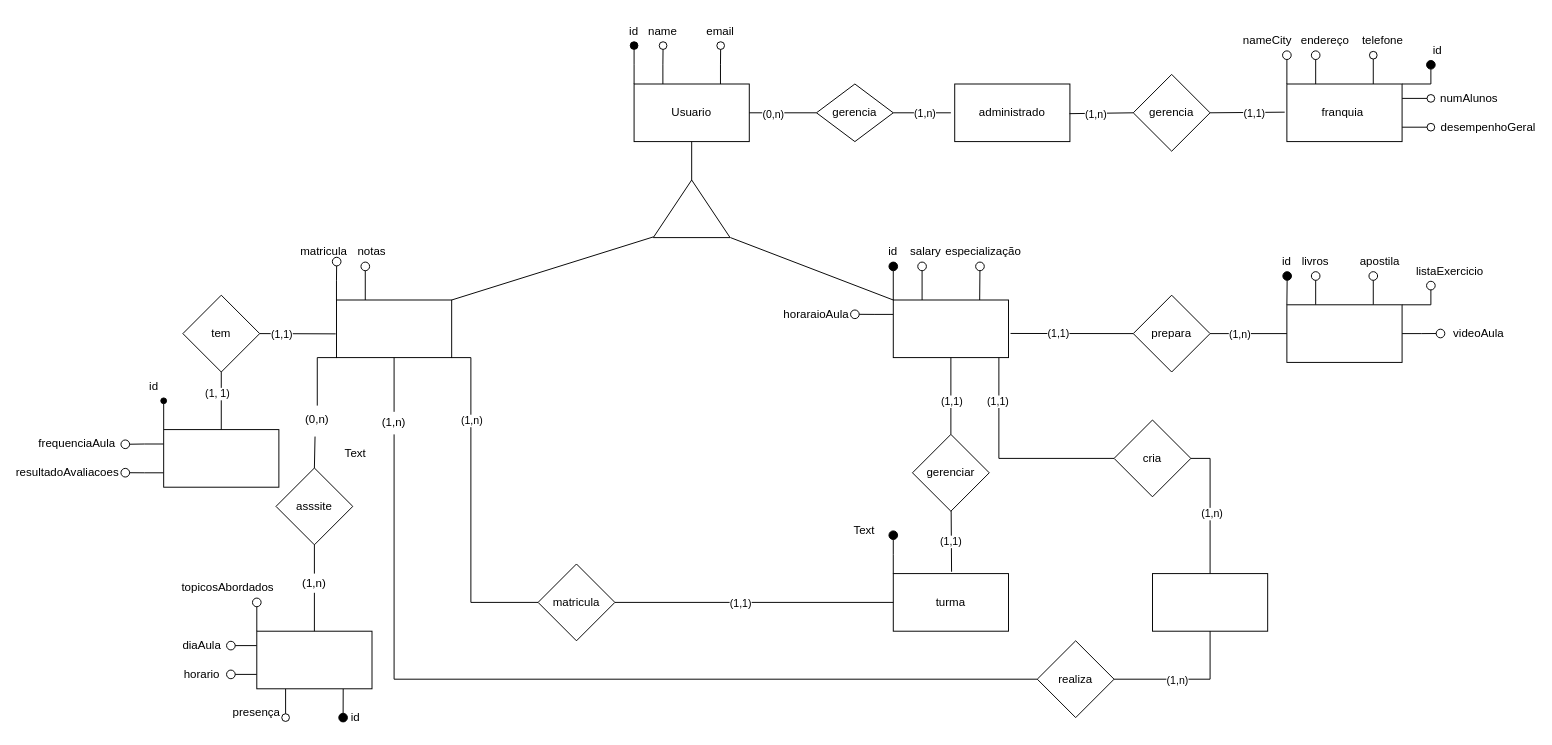
The diagram is 1552 pixels wide and 745 high, and some of its shapes have lost their labels. Here are the shapes that lost their labels. From the top down, the box of each, then its label:
(336, 299, 452, 358): Aluno
(892, 299, 1008, 358): professor
(1286, 304, 1402, 362): material
(163, 429, 279, 487): relatorioDesempenho
(1152, 573, 1268, 631): avaliação
(256, 630, 372, 689): aula
